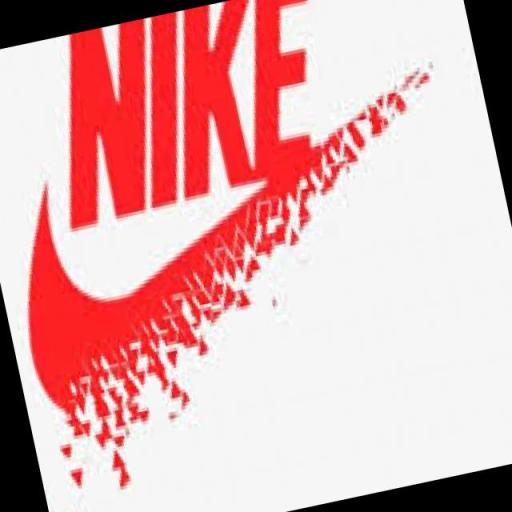Nike: (0, 56, 498, 438), (27, 0, 358, 238)
